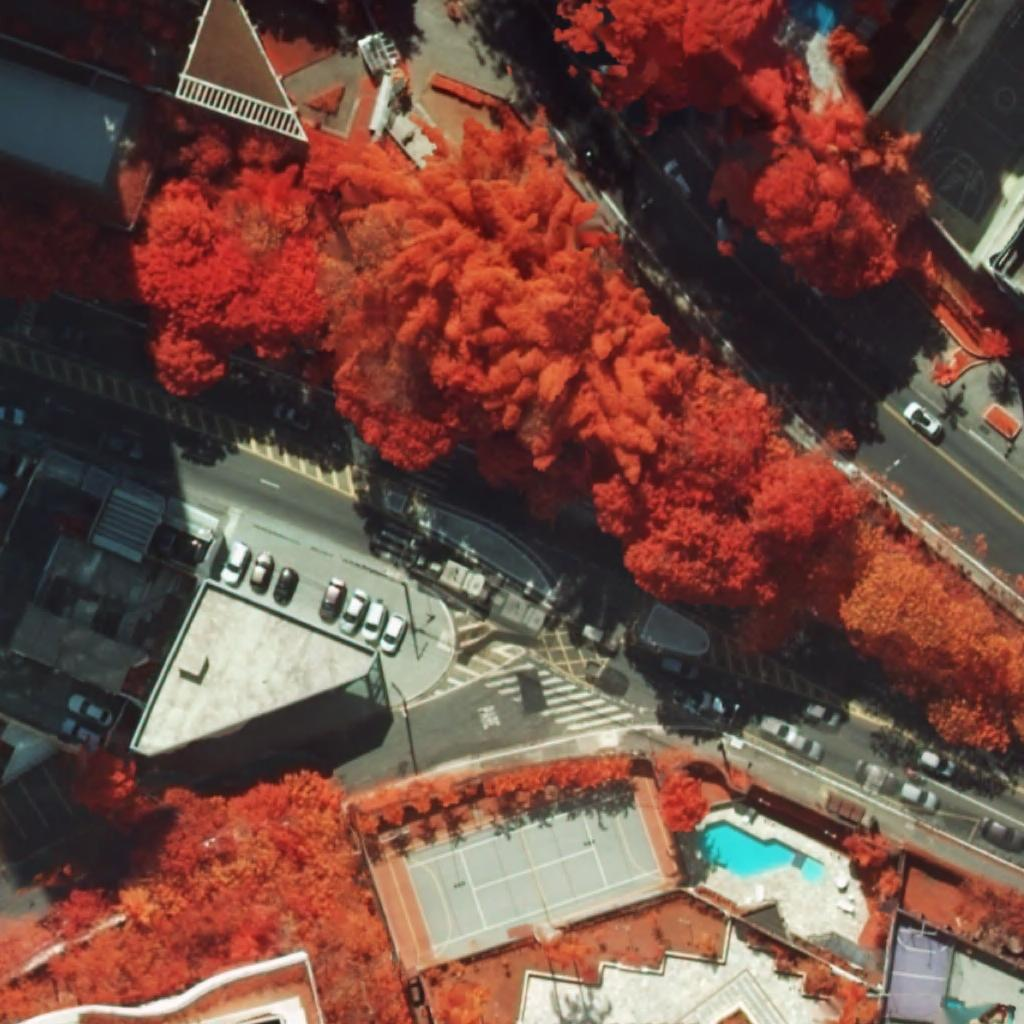pool: (698, 819, 825, 879)
